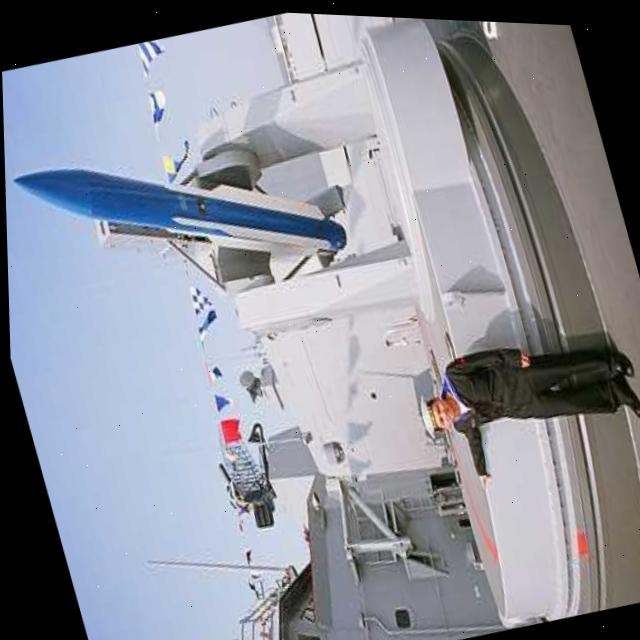missile: (2, 80, 355, 331)
